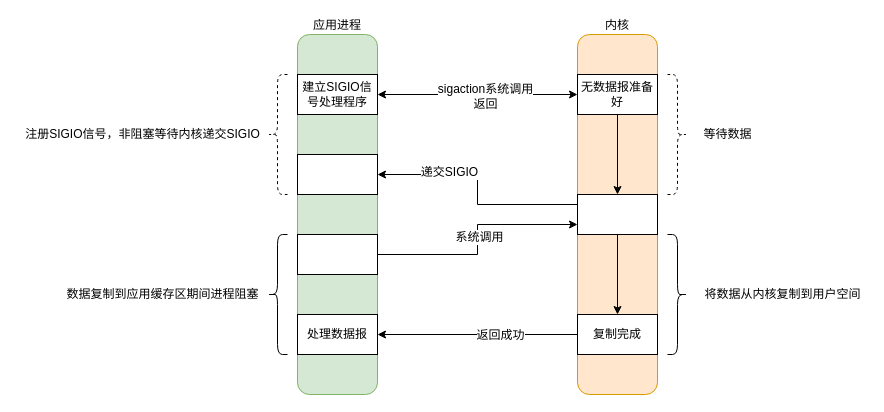
Some shapes in this 884 by 412 pixel diagram are drawn without their labels. The centre of each missing label's shape, as x and y in pixels:
"recvfrom" goes at pixel 337 254.
"信号处理程序" goes at pixel 337 174.
"数据报准备好/复制数据报" goes at pixel 617 214.
